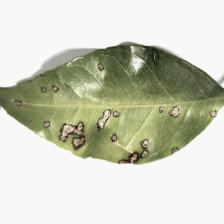canker: (40, 112, 153, 175)
